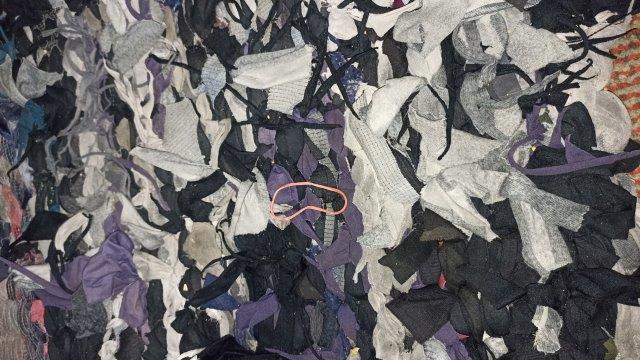karet: (270, 181, 348, 221)
